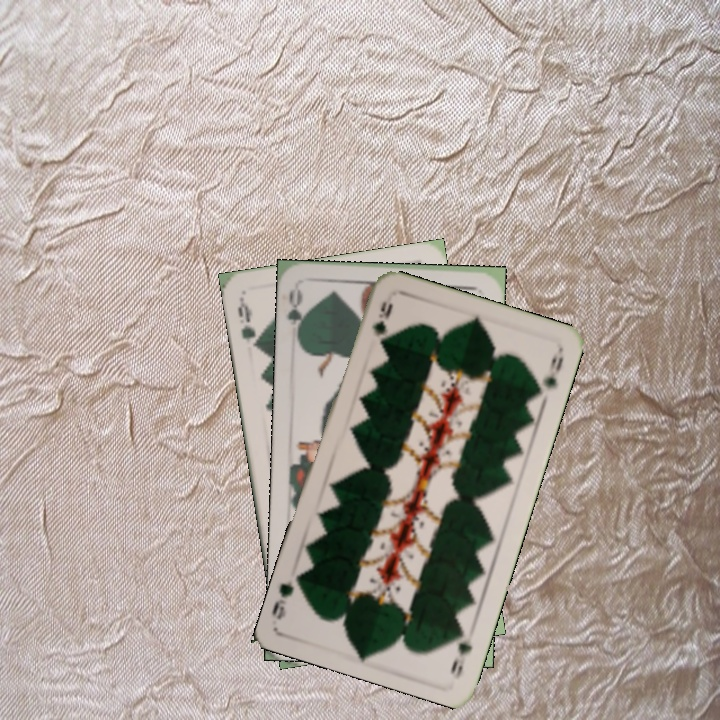G9: (446, 622, 475, 682), (233, 295, 263, 352), (367, 297, 394, 338)
GO: (284, 285, 310, 344)
